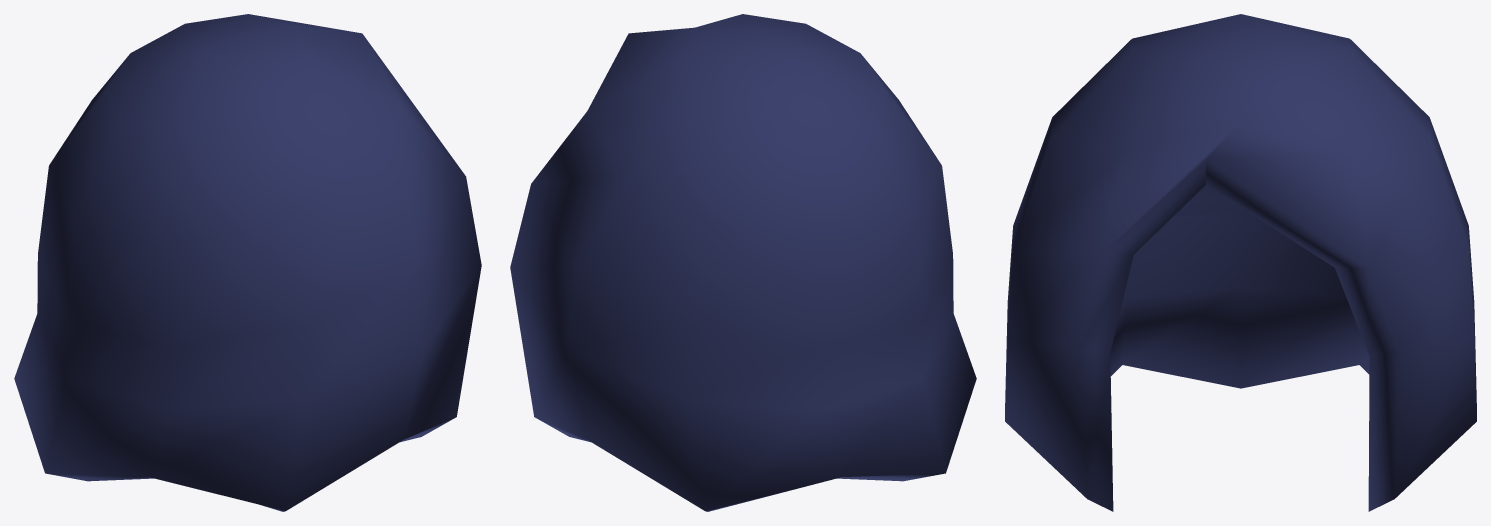
Rendered from TherapyAttachmentHead02.fbx.
3 renders of one model, left to right at view 1: azimuth 30°, elevation 25°; view 2: azimuth 150°, elevation 25°; view 3: azimuth 270°, elevation 25°, orthographic. The views are drawn at different scales.
Parts seen in each view (by area): view 1: pSphere4; view 2: pSphere4; view 3: pSphere4.
Boxes of the visible parts, x1,y1,x2,y2 form: pSphere4: (14,14,481,511); pSphere4: (510,14,976,511); pSphere4: (1005,14,1476,511).
Bounding box in the file's own units: 159 × 169 × 165.
